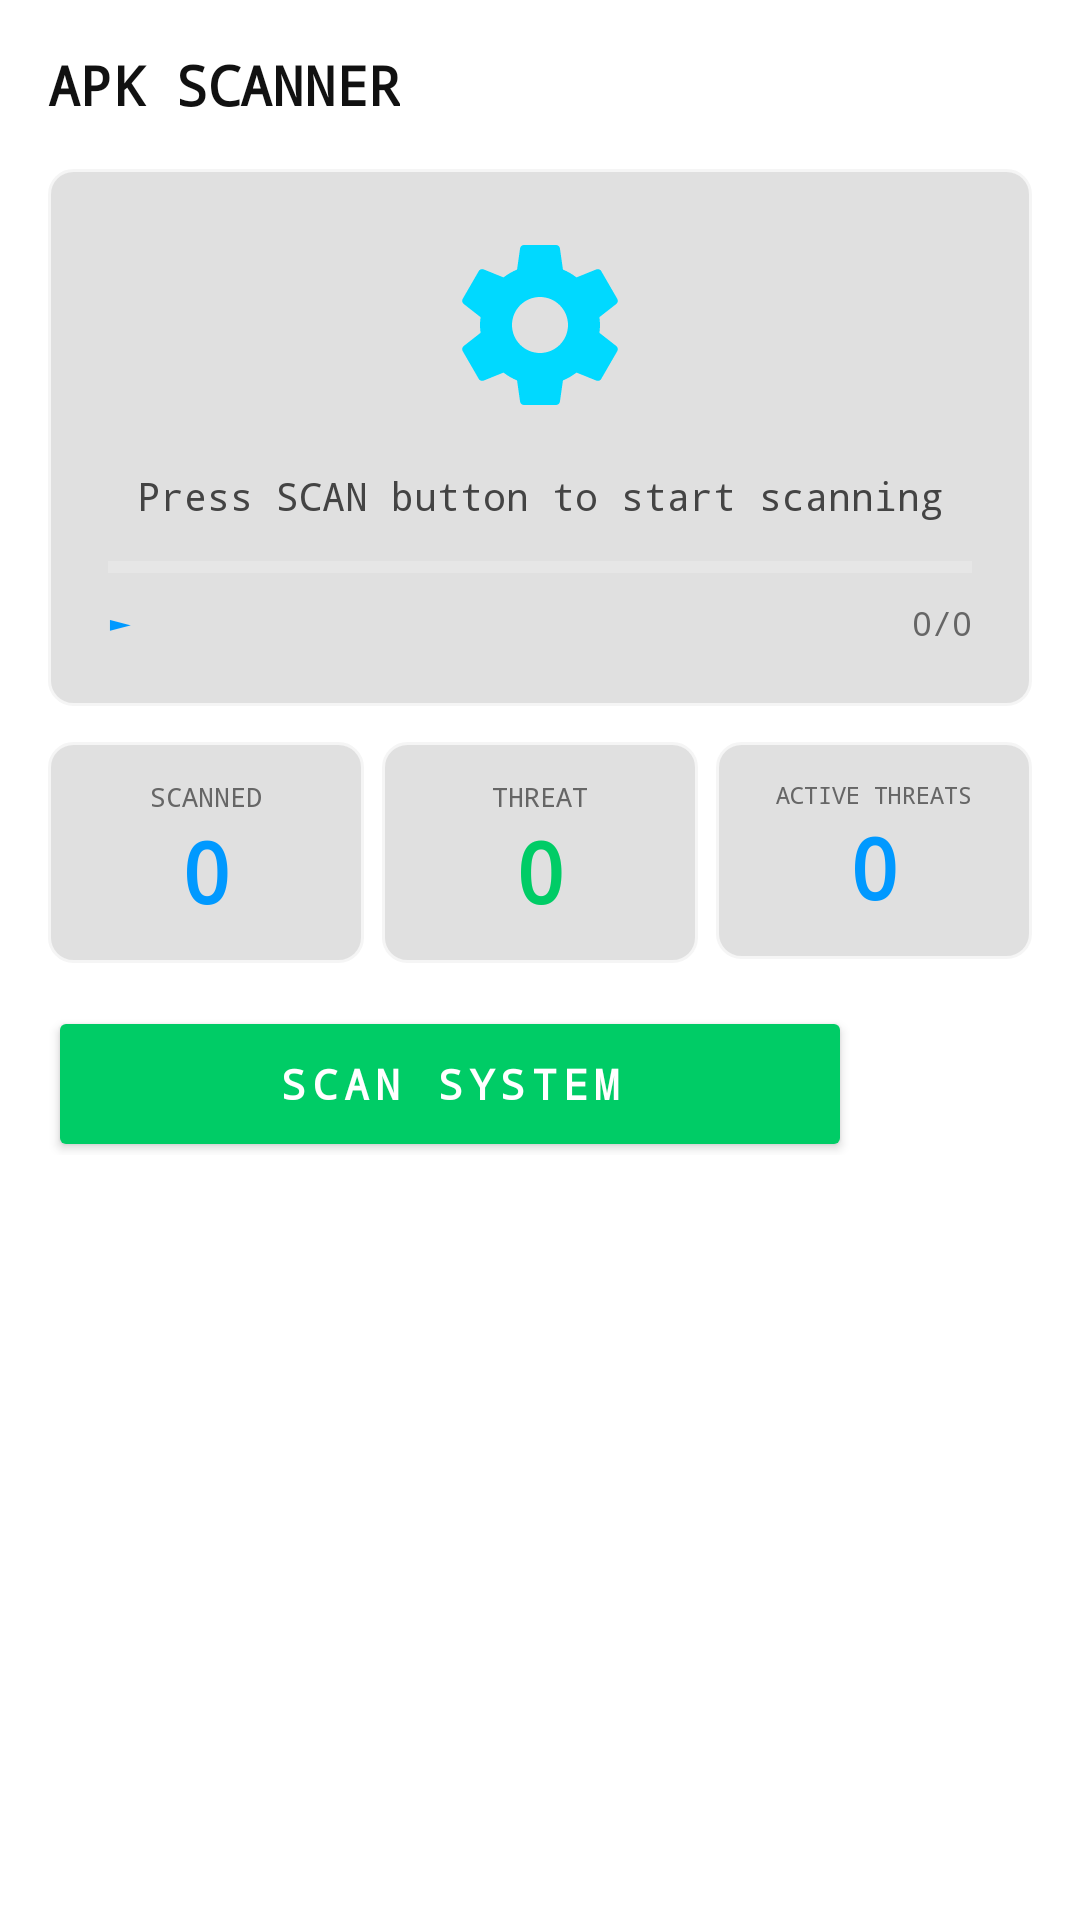

Named icons in this screenshot (1080px x 1920px) and their centers, point (x, y):
gear: point (540, 325)
